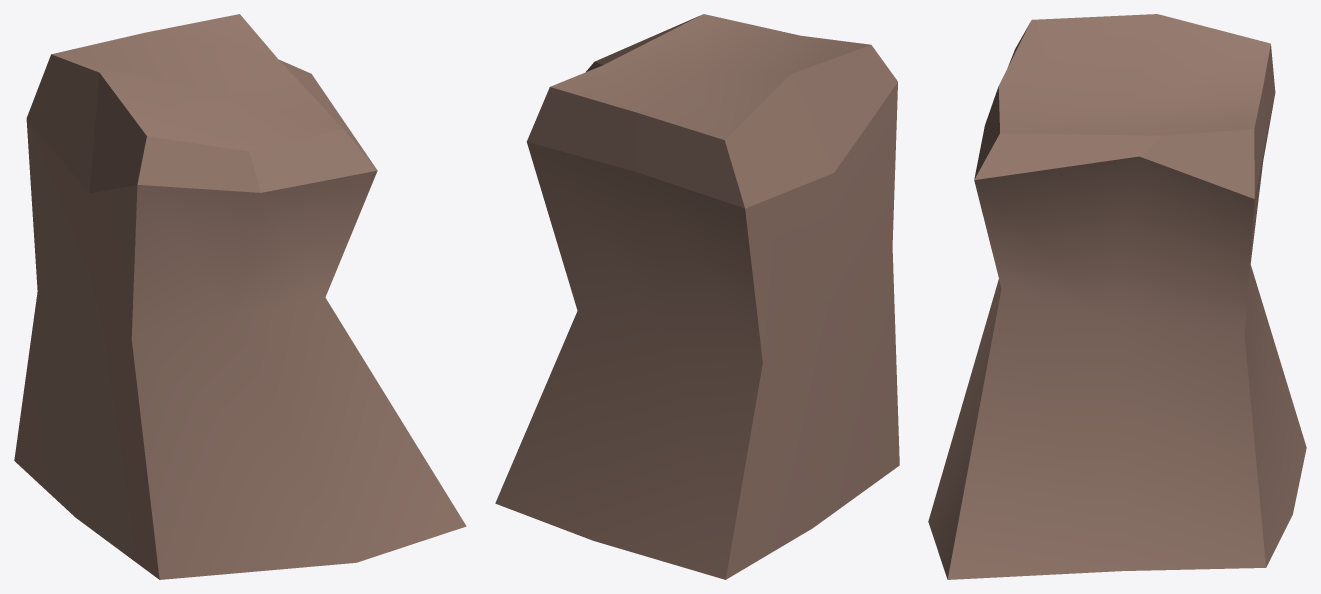
The model's file is rock2_small.fbx.
The picture shows the model from 3 angles, left to right: view 1: azimuth 30°, elevation 25°; view 2: azimuth 150°, elevation 25°; view 3: azimuth 270°, elevation 25°; orthographic projection. The views are drawn at different scales.
Visible parts, largest first — view 1: rock2_small; view 2: rock2_small; view 3: rock2_small.
Part boxes in pixels (box(x1,y1,x2,y2)): rock2_small: box(14, 14, 466, 579); rock2_small: box(495, 14, 899, 579); rock2_small: box(928, 14, 1306, 579).
Size of the model in its own units: 0.4656 by 0.6632 by 0.5184.
